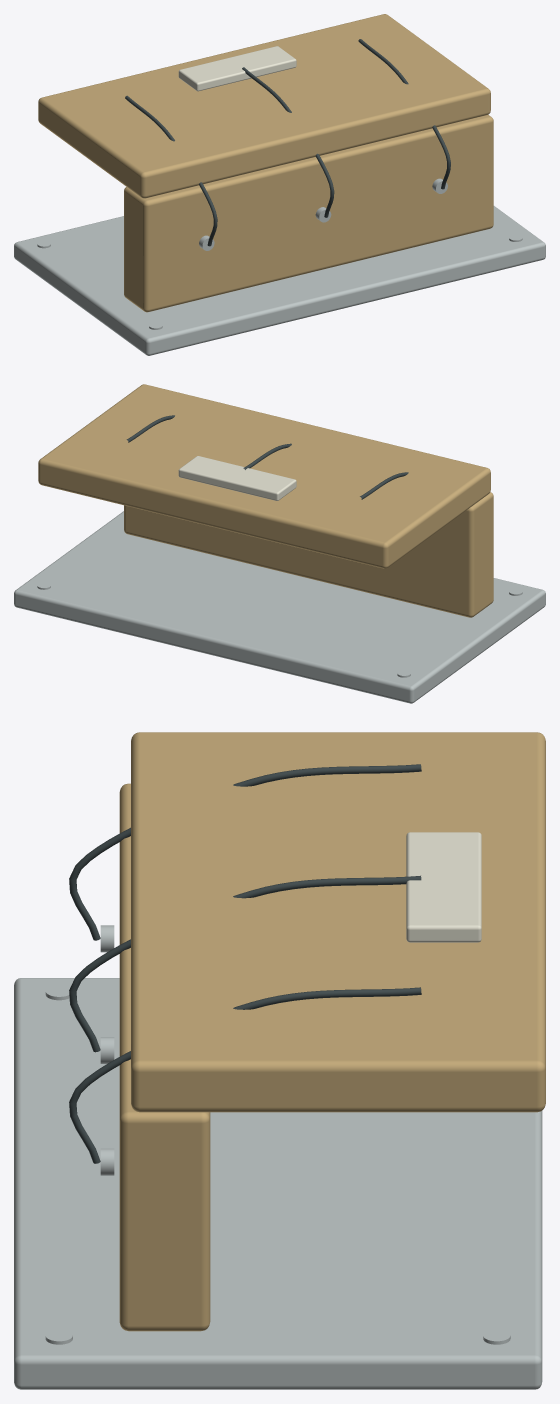
Rendered from abandoned-tidal-model-testing-hall-instrumented-quay-m-02c5fccf__32335.glb.
3 renders of one model, top to bottom at view 1: azimuth 30°, elevation 25°; view 2: azimuth 150°, elevation 25°; view 3: azimuth 270°, elevation 25°, orthographic. The views are drawn at different scales.
Parts seen in each view (by area): view 1: instrumented-quay-model; view 2: instrumented-quay-model; view 3: instrumented-quay-model.
Boxes of the visible parts, bbox=[...] form: instrumented-quay-model: bbox=[14, 14, 545, 355]; instrumented-quay-model: bbox=[14, 384, 545, 703]; instrumented-quay-model: bbox=[14, 732, 545, 1389].
Size of the model in its own units: 1.2 by 0.475 by 0.705.
